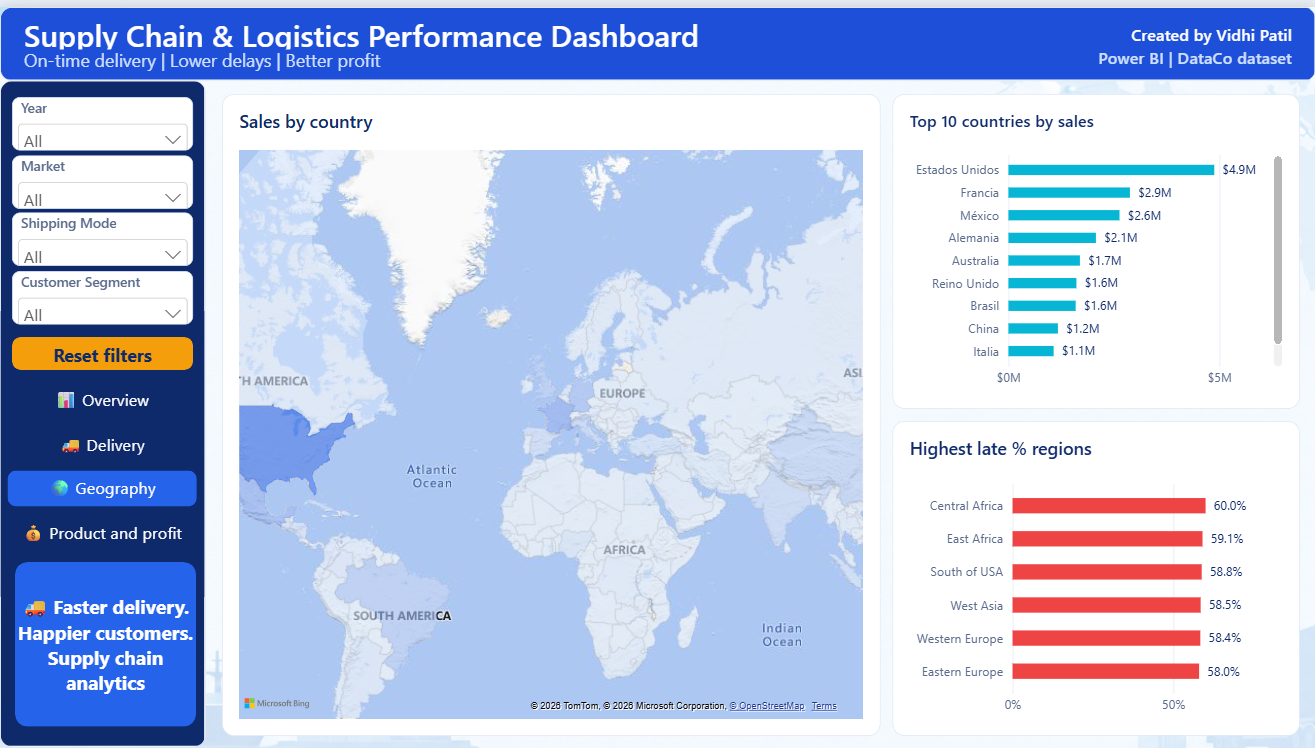

What the dashboard file says about the page in this screenshot:
{"tool":"powerbi","page":{"name":"🌍 Geography","canvas":[1280,720],"ordinal":2},"visuals":[{"type":"shape","box":[0,0,1280,72],"z":0},{"type":"shape","box":[0,72,200,648],"z":1},{"type":"textbox","title":"Supply Chain & Logistics Performance Dashboard","box":[24,8,760,34],"z":2},{"type":"textbox","title":"On-time delivery | Lower delays | Better profit","box":[24,40,600,24],"z":3},{"type":"textbox","title":"Created by Vidhi Patil","box":[980,16,276,22],"z":4},{"type":"textbox","title":"Power BI | DataCo dataset","box":[980,38,276,22],"z":5},{"type":"slicer","fields":{"Values":["Dim_Date.Year"]},"box":[12,88,176,52],"z":6},{"type":"slicer","fields":{"Values":["Fact_Orders.Market"]},"box":[12,144,176,52],"z":7},{"type":"slicer","fields":{"Values":["Fact_Orders.Shipping Mode"]},"box":[12,200,176,52],"z":8},{"type":"slicer","fields":{"Values":["Fact_Orders.Customer Segment"]},"box":[12,256,176,52],"z":9},{"type":"actionButton","box":[12,320,176,32],"z":10},{"type":"pageNavigator","box":[8,364,184,164],"z":11},{"type":"shape","box":[14.6,539.4,176,160],"z":12},{"type":"filledMap","title":"Sales by country","fields":{"Category":["Fact_Orders.Order Country"]},"box":[216,84,640,624],"z":13},{"type":"clusteredBarChart","title":"Top 10 countries by sales","fields":{"Category":["Fact_Orders.Order Country"],"Y":["_Measures.Total Sales"]},"box":[868,84,396,306],"z":14},{"type":"clusteredBarChart","title":"Highest late % regions","fields":{"Category":["Fact_Orders.Order Region"],"Y":["_Measures.Late Delivery %"]},"box":[868,402,396,306],"z":15}]}

Visuals, with their boxes in screenshot pixels (x1, y1, x2, y2), scaled from the page's 1280x720 canvas onto the 1315x748 screenshot:
shape: (0, 0, 1314, 75)
shape: (0, 75, 205, 747)
"Supply Chain & Logistics Performance Dashboard" textbox: (25, 8, 805, 44)
"On-time delivery | Lower delays | Better profit" textbox: (25, 42, 641, 66)
"Created by Vidhi Patil" textbox: (1007, 17, 1290, 39)
"Power BI | DataCo dataset" textbox: (1007, 39, 1290, 62)
slicer - Dim_Date.Year: (12, 91, 193, 145)
slicer - Fact_Orders.Market: (12, 150, 193, 204)
slicer - Fact_Orders.Shipping Mode: (12, 208, 193, 262)
slicer - Fact_Orders.Customer Segment: (12, 266, 193, 320)
actionButton: (12, 332, 193, 366)
pageNavigator: (8, 378, 197, 549)
shape: (15, 560, 196, 727)
"Sales by country" filledMap: (222, 87, 879, 736)
"Top 10 countries by sales" clusteredBarChart: (892, 87, 1299, 405)
"Highest late % regions" clusteredBarChart: (892, 418, 1299, 736)
